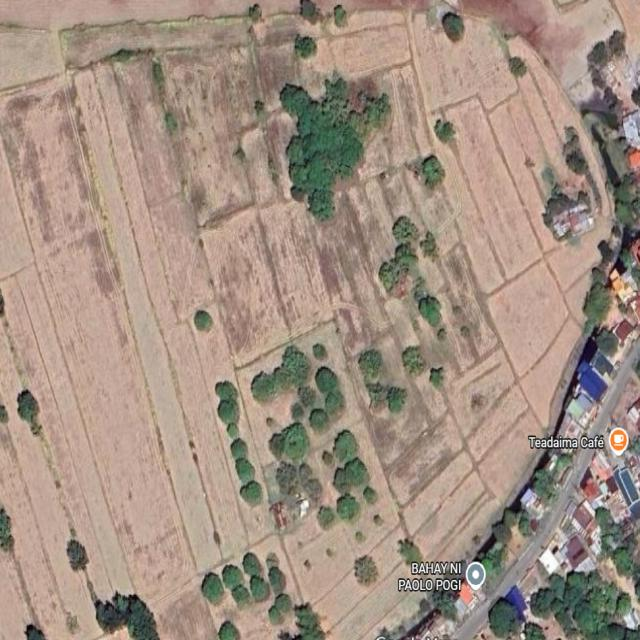Tree: (299, 101, 365, 173), (126, 593, 160, 640), (280, 345, 311, 386), (304, 152, 333, 194), (361, 93, 390, 135), (585, 284, 613, 325), (295, 603, 326, 640), (281, 423, 309, 462), (490, 596, 516, 637), (250, 368, 278, 406), (96, 600, 126, 632), (281, 85, 311, 116), (613, 171, 640, 205), (334, 429, 360, 464), (202, 571, 226, 607), (613, 195, 640, 227), (529, 590, 553, 626), (309, 190, 336, 220), (597, 324, 621, 357), (321, 75, 349, 103), (434, 592, 461, 621), (316, 365, 339, 399), (238, 478, 264, 508), (359, 348, 383, 379), (393, 215, 420, 242), (441, 13, 466, 42), (287, 134, 308, 168), (356, 554, 377, 587), (379, 261, 400, 294), (423, 158, 446, 188), (576, 600, 596, 634), (235, 456, 259, 484), (324, 391, 348, 419), (345, 460, 370, 486), (222, 562, 245, 590), (277, 463, 297, 495), (402, 345, 424, 374), (594, 619, 624, 640), (216, 399, 240, 425), (337, 493, 358, 522), (68, 540, 88, 570), (391, 254, 421, 274), (399, 540, 421, 567), (333, 467, 354, 495), (268, 566, 288, 595), (249, 574, 271, 600), (564, 570, 586, 596), (517, 507, 534, 540), (536, 471, 557, 497), (598, 504, 618, 531), (434, 118, 456, 142), (229, 437, 249, 463), (568, 152, 588, 178), (215, 378, 236, 402), (284, 165, 308, 186), (556, 609, 574, 637), (273, 364, 291, 391), (310, 408, 330, 432), (318, 505, 335, 533), (599, 240, 618, 265), (243, 550, 261, 576), (550, 573, 566, 602), (367, 385, 388, 407), (616, 547, 633, 573), (232, 584, 252, 606), (396, 243, 418, 263), (298, 35, 316, 59), (537, 586, 555, 610), (616, 590, 632, 617), (388, 388, 407, 410), (591, 264, 608, 288), (588, 570, 605, 594), (297, 384, 315, 406), (493, 524, 511, 546), (420, 233, 437, 256), (218, 621, 238, 640), (522, 621, 542, 640), (509, 56, 526, 78), (196, 309, 212, 332), (270, 434, 284, 460), (224, 419, 241, 440), (429, 367, 446, 388), (296, 0, 315, 18), (424, 304, 440, 325), (312, 343, 329, 362), (275, 592, 291, 612), (115, 590, 128, 614), (334, 4, 347, 26), (290, 402, 305, 421), (428, 293, 443, 312), (605, 596, 618, 616), (502, 509, 516, 527), (557, 454, 574, 468), (268, 606, 281, 624), (418, 297, 429, 318), (363, 487, 378, 502), (300, 464, 312, 482), (437, 328, 449, 344), (323, 448, 334, 464)
